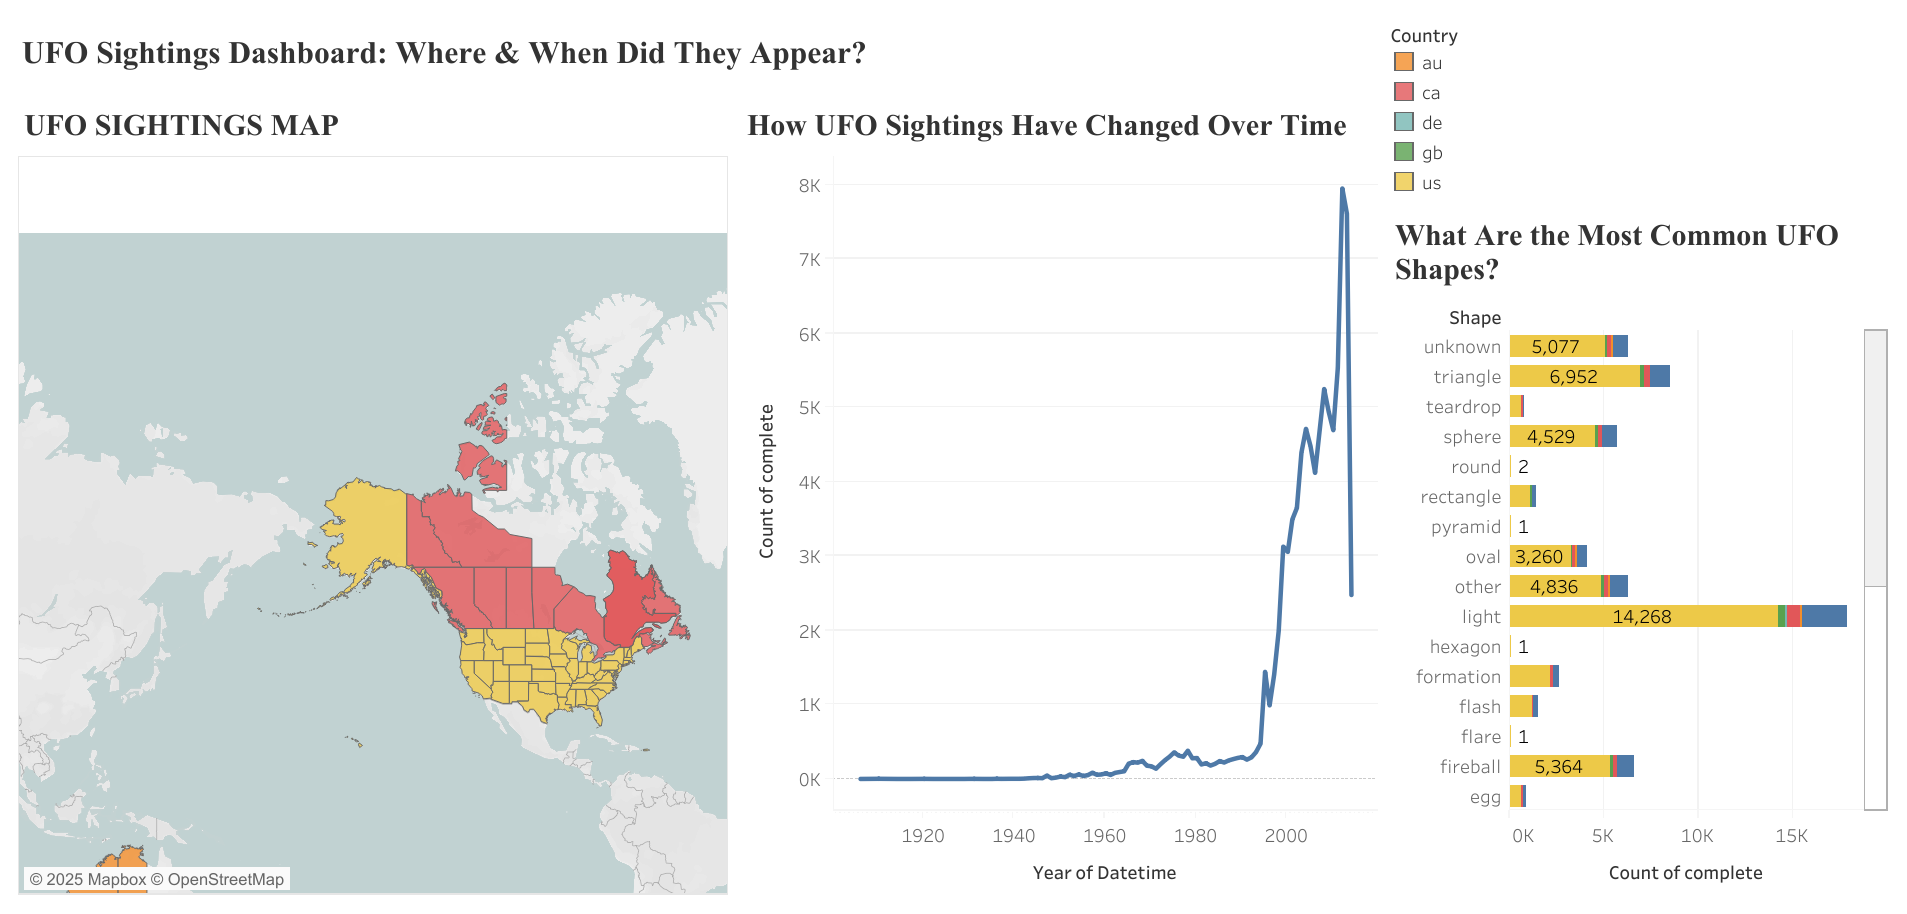

What the dashboard file says about the page in this screenshot:
{"tool":"tableau","page":{"name":"UFO Sightings Dashboard: Where & When Did They Appear?","canvas":[1000,1000],"units":"permille","ordinal":0},"visuals":[{"type":"title","box":[15.4,13.2,314.8,89]},{"type":"legend","title":"UFO Sightings Map","param":"[federated.1ln0kck1brlccv15nnfw908pjbja].[none:country:nk]","box":[330.1,13.2,654.5,209.2]},{"type":"worksheet","title":"UFO Sightings Map","mark":"Multipolygon","rows":["latitude"],"box":[15.4,102.1,253.3,884.7]},{"type":"worksheet","title":"UFO Sightings Over Time","mark":"Line","rows":["complete_A4F87C6540DD4473810EF58FDE40D6AF"],"cols":["datetime"],"box":[268.7,102.1,61.4,884.7]},{"type":"worksheet","title":"UFO Shape Analysis","mark":"Automatic","rows":["shape"],"cols":["complete_A4F87C6540DD4473810EF58FDE40D6AF"],"box":[330.1,222.4,654.5,764.4]}]}

Visuals, with their boxes on the dashboard's canvas, which has no fixed pixel size, in thousandths of its width and height (x1, y1, x2, y2). These are canvas units, not pixel positions in the 1907x914 screenshot, which may show the page scaled, cropped or inside an application window:
title: [left=15, top=13, right=330, bottom=102]
"UFO Sightings Map" legend: [left=330, top=13, right=985, bottom=222]
"UFO Sightings Map" worksheet (Multipolygon marks): [left=15, top=102, right=269, bottom=987]
"UFO Sightings Over Time" worksheet (Line marks): [left=269, top=102, right=330, bottom=987]
"UFO Shape Analysis" worksheet: [left=330, top=222, right=985, bottom=987]
